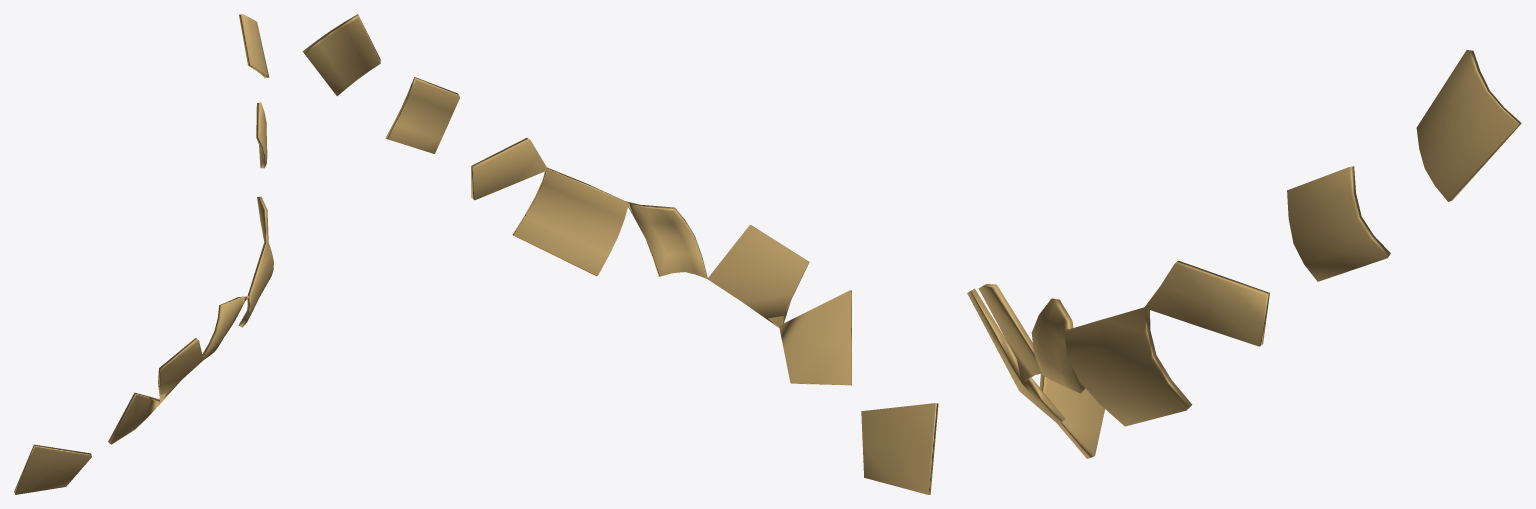
3 renders of one model, left to right at view 1: azimuth 30°, elevation 25°; view 2: azimuth 150°, elevation 25°; view 3: azimuth 270°, elevation 25°, orthographic. The views are drawn at different scales.
Parts seen in each view (by area): view 1: 左侧跗跖背侧韧带; view 2: 左侧跗跖背侧韧带; view 3: 左侧跗跖背侧韧带.
Boxes of the visible parts, x1,y1,x2,y2 form: 左侧跗跖背侧韧带: [14, 14, 273, 494]; 左侧跗跖背侧韧带: [302, 14, 938, 494]; 左侧跗跖背侧韧带: [967, 50, 1521, 458].
Size of the model in its own units: 0.065 by 0.0605 by 0.0451.
